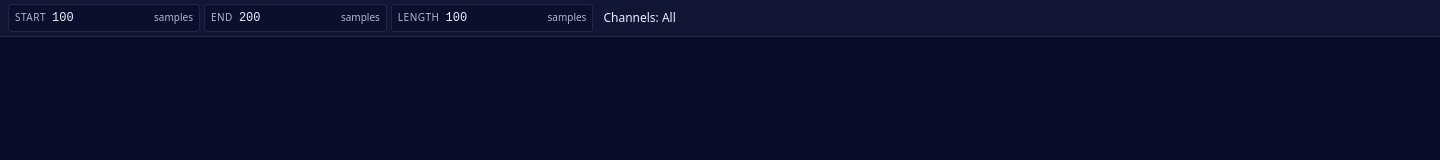
Scenario: SelectionBar numeric editing › discloses channel choices while keeping numeric fields directly editable
The width and height of the screenshot is (1440, 160).
Expected: the field named "Selection start" is shown, [52,6,148,30]
Step 1. Click the heading "Channels: All" → (640, 18), box [597,4,682,32]
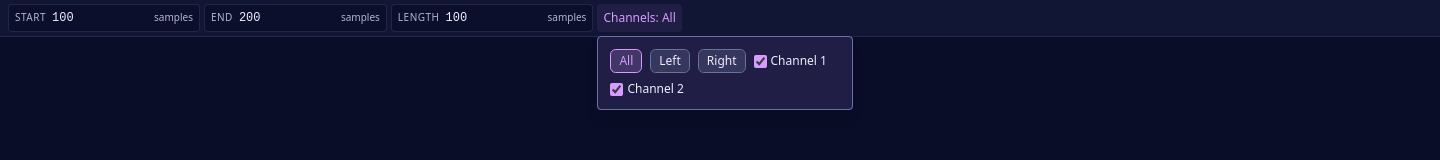
Result: the checkbox named "Channel 1 selected" is shown at [754,54,766,68]
